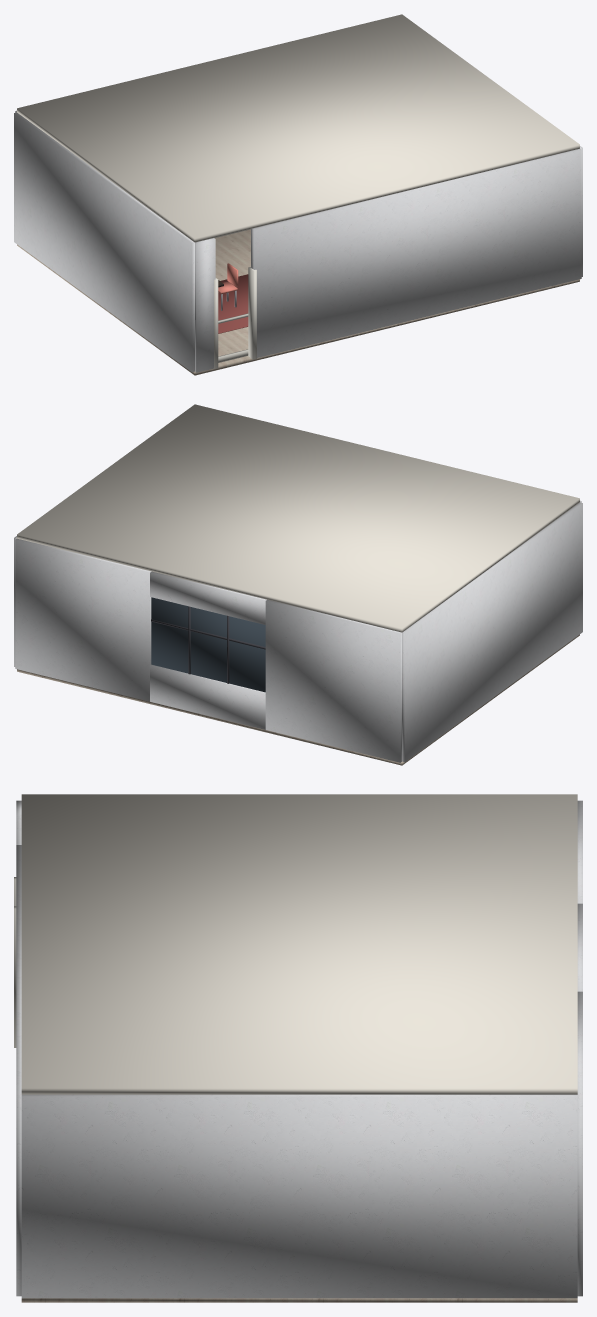
The model's file is r3d_place_cafe.glb.
The picture shows the model from 3 angles, top to bottom: view 1: azimuth 30°, elevation 25°; view 2: azimuth 150°, elevation 25°; view 3: azimuth 270°, elevation 25°; orthographic projection. The views are drawn at different scales.
Parts seen in each view (by area): view 1: ceiling, wall_front, wall_left, floor, wall_front_end, detail_trim, detail_rug; view 2: ceiling, wall_left, wall_back, wall_back_2, window, wall_back_low, wall_back_high, floor, detail_dark; view 3: ceiling, wall_right, floor, wall_front, wall_back_2.
Part boxes in pixels (x1,y1,x2,y2): ceiling: (17,14,579,242); wall_front: (251,148,581,357); wall_left: (14,112,194,372); floor: (17,229,579,375); wall_front_end: (195,238,215,372); detail_trim: (214,229,256,368); detail_rug: (218,274,248,333); ceiling: (17,404,579,632); wall_left: (402,502,582,762); wall_back: (265,599,401,762); wall_back_2: (15,538,151,701); window: (151,597,265,692); wall_back_low: (150,664,265,729); wall_back_high: (150,571,266,624); floor: (17,634,579,765); detail_dark: (151,606,265,683); ceiling: (21,794,577,1094); wall_right: (21,1094,577,1298); floor: (21,1298,577,1302); wall_front: (16,845,21,1296); wall_back_2: (577,991,582,1296).
Size of what is drawn, in the model's own units: 10.15 by 3.4 by 8.19.
Materials: 18 (3 with a texture image).
